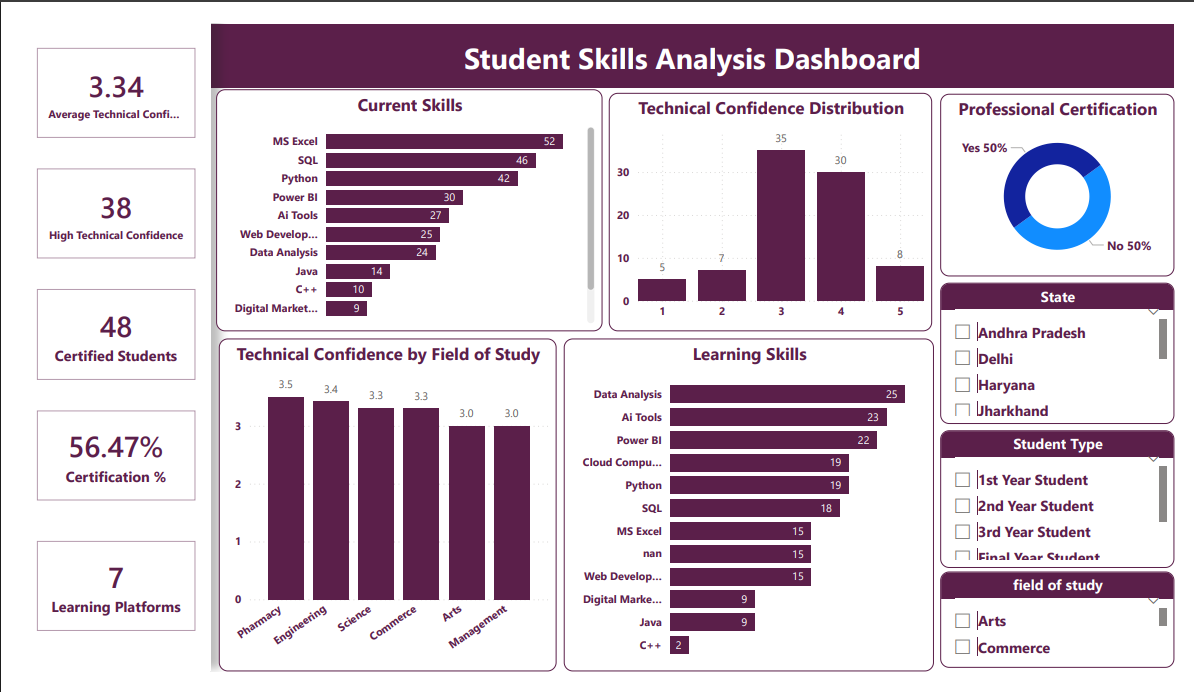

Layout of this report page (visuals, bound fields, positions):
{"tool":"powerbi","page":{"name":"Skills Analysis","canvas":[1280,720],"ordinal":1},"visuals":[{"type":"shape","box":[0,0,1280.5,70.6],"z":0},{"type":"textbox","box":[209.4,10.9,1071.9,59.4],"z":1000},{"type":"shape","box":[0,0,210.4,720],"z":2000},{"type":"cardVisual","fields":{"Data":["Measure_Table.Average Technical Confidence"]},"box":[0,10.2,209.9,134.1],"z":3000},{"type":"cardVisual","fields":{"Data":["Measure_Table.High Technical Confidence"]},"box":[0,144.3,209.9,134.1],"z":4000},{"type":"cardVisual","fields":{"Data":["Measure_Table.Certified Students"]},"box":[0,278.5,209.9,134.1],"z":5000},{"type":"cardVisual","fields":{"Data":["Measure_Table.Certification %"]},"box":[0,412.6,209.9,134.1],"z":6000},{"type":"cardVisual","fields":{"Data":["Measure_Table.Learning Platforms"]},"box":[0,558.4,209.9,134.1],"z":7000},{"type":"clusteredBarChart","title":"Current Skills","fields":{"Category":["Dim_CurrentSkills.current_skill"],"Y":["Measure_Table.Current Skill Count"]},"box":[215.6,73.4,429.7,268.8],"z":8000},{"type":"clusteredBarChart","title":"Learning Skills","fields":{"Category":["Dim_LearningSkills.learning_skill"],"Y":["Measure_Table.Learning Skill Count"]},"box":[601.6,350,410.9,370.3],"z":9000},{"type":"clusteredColumnChart","title":"Technical Confidence Distribution","fields":{"Y":["Measure_Table.Student Count"],"Category":["Fact_StudentSurvey.technical_confidence"]},"box":[651.6,76.6,359.4,265.6],"z":10000},{"type":"donutChart","title":"Professional Certification","fields":{"Y":["Measure_Table.Student Count"],"Category":["Dim_Skills.professional_certifications"]},"box":[1020.3,78.1,259.4,203.1],"z":11000},{"type":"slicer","title":"field of study","fields":{"Values":["Dim_Education.field_of_study"]},"box":[1020.3,609.4,259.4,106.2],"z":12000},{"type":"slicer","title":"State","fields":{"Values":["Dim_Education.state"]},"box":[1020.3,287.5,259.4,157.8],"z":13000},{"type":"slicer","title":"Student Type","fields":{"Values":["Fact_StudentSurvey.student_type"]},"box":[1020.3,451.6,259.4,153.1],"z":14000},{"type":"clusteredColumnChart","title":"Technical Confidence by Field of Study","fields":{"Category":["Dim_Education.field_of_study"],"Y":["Measure_Table.Average Technical Confidence"]},"box":[218.8,349.7,375,370.3],"z":15000}]}

Visuals, with their boxes in screenshot pixels (x1, y1, x2, y2), scaled from the page's 1280x720 canvas onto the 1194x692 screenshot:
shape: x1=0, y1=0, x2=1193, y2=68
textbox: x1=195, y1=10, x2=1193, y2=68
shape: x1=0, y1=0, x2=196, y2=691
cardVisual - Measure_Table.Average Technical Confidence: x1=0, y1=10, x2=196, y2=139
cardVisual - Measure_Table.High Technical Confidence: x1=0, y1=139, x2=196, y2=268
cardVisual - Measure_Table.Certified Students: x1=0, y1=268, x2=196, y2=397
cardVisual - Measure_Table.Certification %: x1=0, y1=397, x2=196, y2=525
cardVisual - Measure_Table.Learning Platforms: x1=0, y1=537, x2=196, y2=666
"Current Skills" clusteredBarChart: x1=201, y1=71, x2=602, y2=329
"Learning Skills" clusteredBarChart: x1=561, y1=336, x2=944, y2=691
"Technical Confidence Distribution" clusteredColumnChart: x1=608, y1=74, x2=943, y2=329
"Professional Certification" donutChart: x1=952, y1=75, x2=1193, y2=270
"field of study" slicer: x1=952, y1=586, x2=1193, y2=688
"State" slicer: x1=952, y1=276, x2=1193, y2=428
"Student Type" slicer: x1=952, y1=434, x2=1193, y2=581
"Technical Confidence by Field of Study" clusteredColumnChart: x1=204, y1=336, x2=554, y2=691
